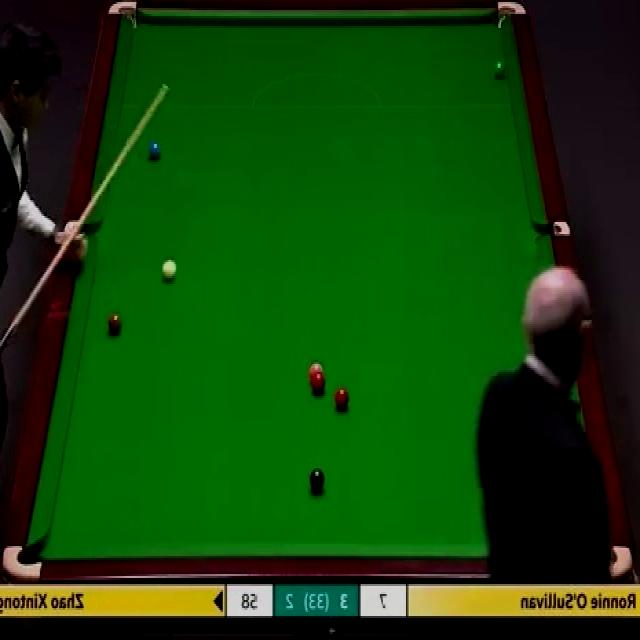pocket: (2, 544, 42, 583), (608, 540, 633, 579), (107, 2, 138, 32), (496, 1, 528, 30), (536, 221, 570, 240), (64, 222, 98, 240)
